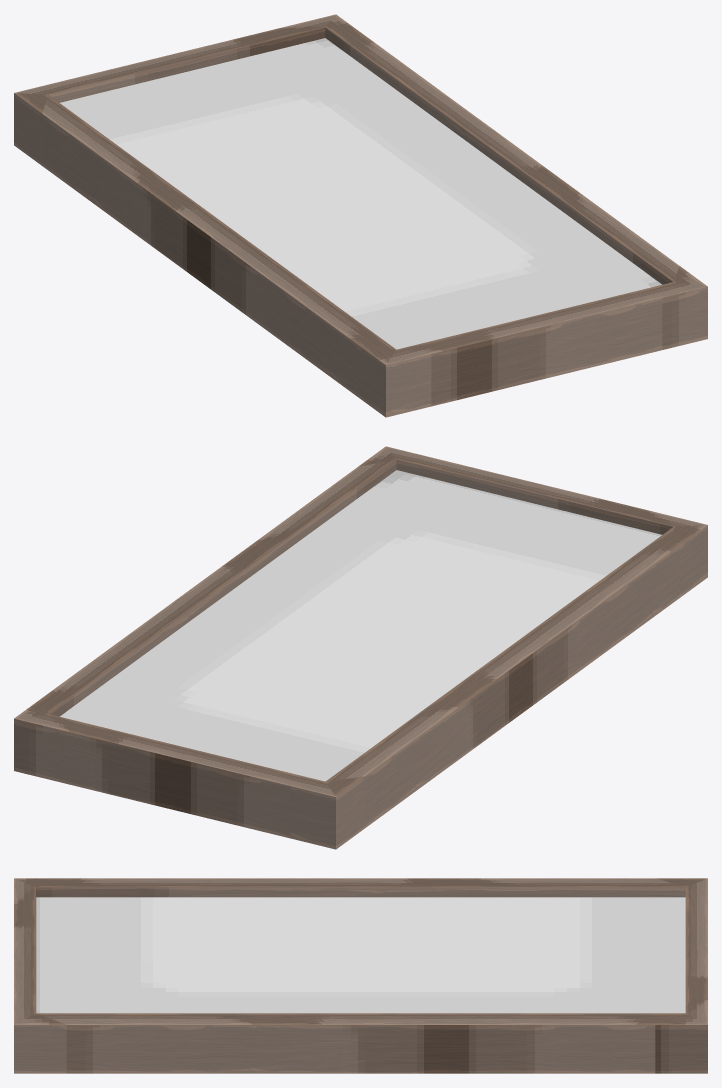
The model's file is SM_HouseRoof_Top_02.fbx.
3 views of the same model, one above another, from view 1: azimuth 30°, elevation 25°; view 2: azimuth 150°, elevation 25°; view 3: azimuth 270°, elevation 25° (orthographic). The views are drawn at different scales.
Parts seen in each view (by area): view 1: SM_HouseRoof_Top_02; view 2: SM_HouseRoof_Top_02; view 3: SM_HouseRoof_Top_02.
Boxes of the visible parts, x1,y1,x2,y2 form: SM_HouseRoof_Top_02: (14,14,707,417); SM_HouseRoof_Top_02: (14,446,707,849); SM_HouseRoof_Top_02: (14,878,707,1073).
Size of the model in its own units: 250 by 500 by 40.77.
